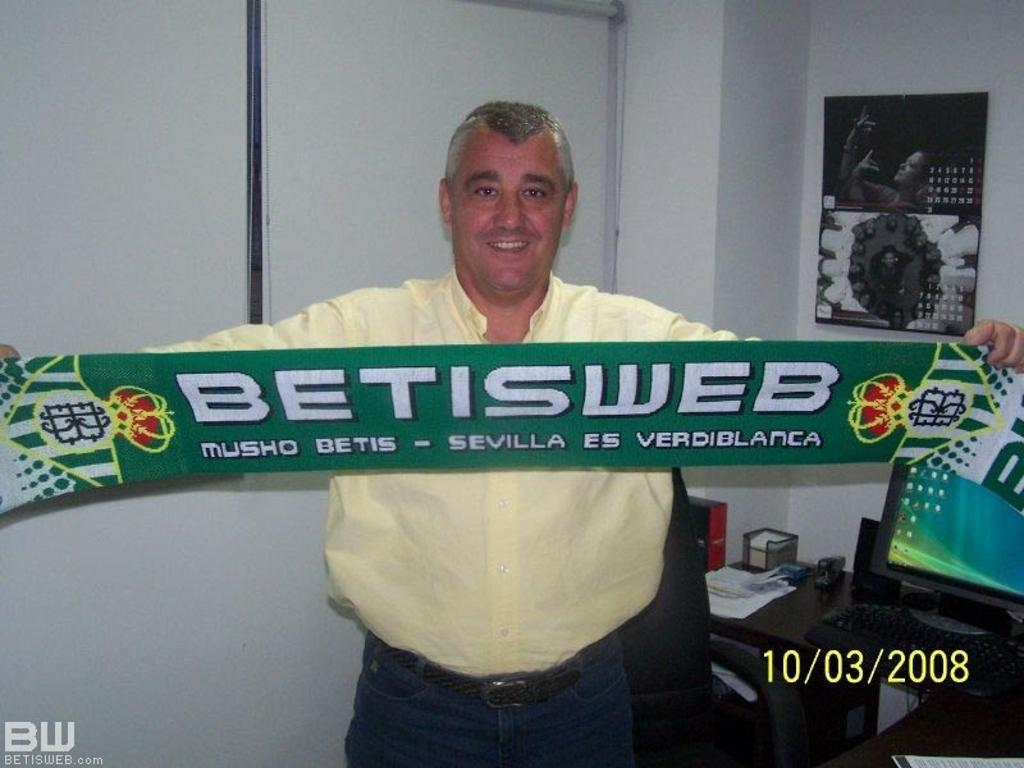face: (449, 131, 555, 299)
